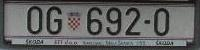-: (143, 19, 151, 25)
0: (26, 5, 44, 33), (153, 8, 169, 36)
2: (125, 7, 141, 36)
6: (85, 6, 103, 36)
9: (105, 7, 120, 36)
G: (45, 6, 62, 36)
